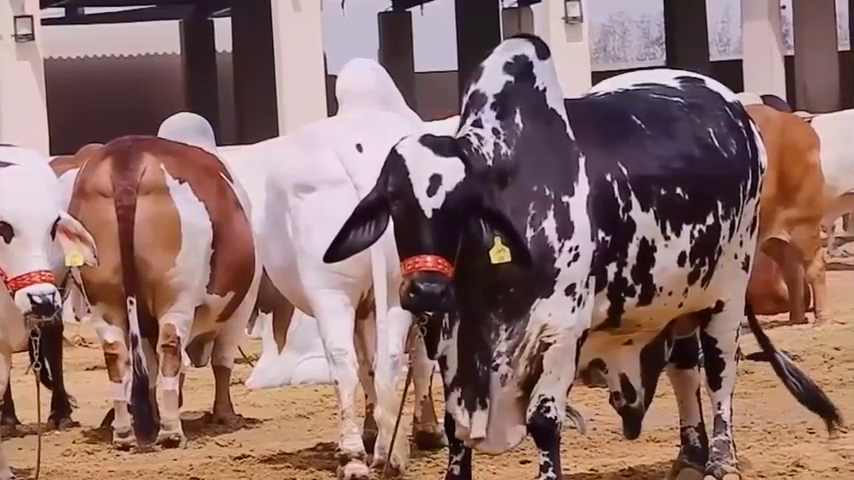bo: (318, 30, 768, 479), (248, 51, 468, 480), (54, 95, 258, 451), (1, 138, 100, 451), (721, 88, 840, 328)
